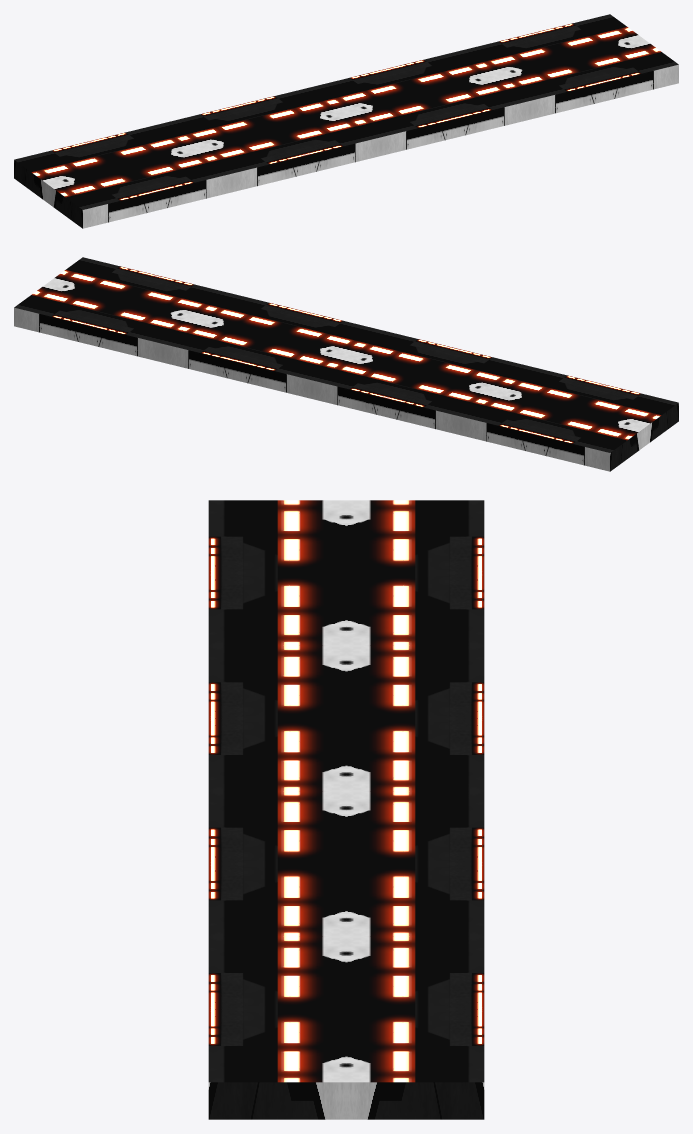
The model's file is RoadMiddleDivider.fbx.
The picture shows the model from 3 angles, top to bottom: view 1: azimuth 30°, elevation 25°; view 2: azimuth 150°, elevation 25°; view 3: azimuth 270°, elevation 25°; orthographic projection. The views are drawn at different scales.
Visible parts, largest first — view 1: RM_1LnMrgPrt4Sgmnt; view 2: RM_1LnMrgPrt4Sgmnt; view 3: RM_1LnMrgPrt4Sgmnt.
Boxes of the visible parts, <box> form: RM_1LnMrgPrt4Sgmnt: <box>14,14,678,228</box>; RM_1LnMrgPrt4Sgmnt: <box>14,257,678,471</box>; RM_1LnMrgPrt4Sgmnt: <box>208,500,484,1119</box>.
Bounding box in the file's own units: 2000 × 60 × 400.
1 material, 1 textured.
